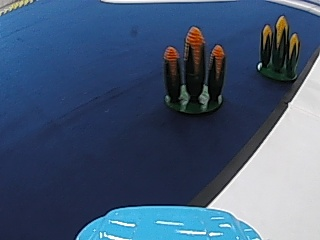corn: (160, 30, 228, 116), (255, 12, 301, 79)
